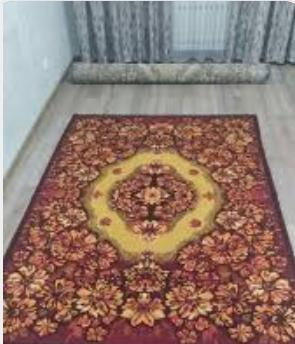carpet: (5, 116, 294, 344)
